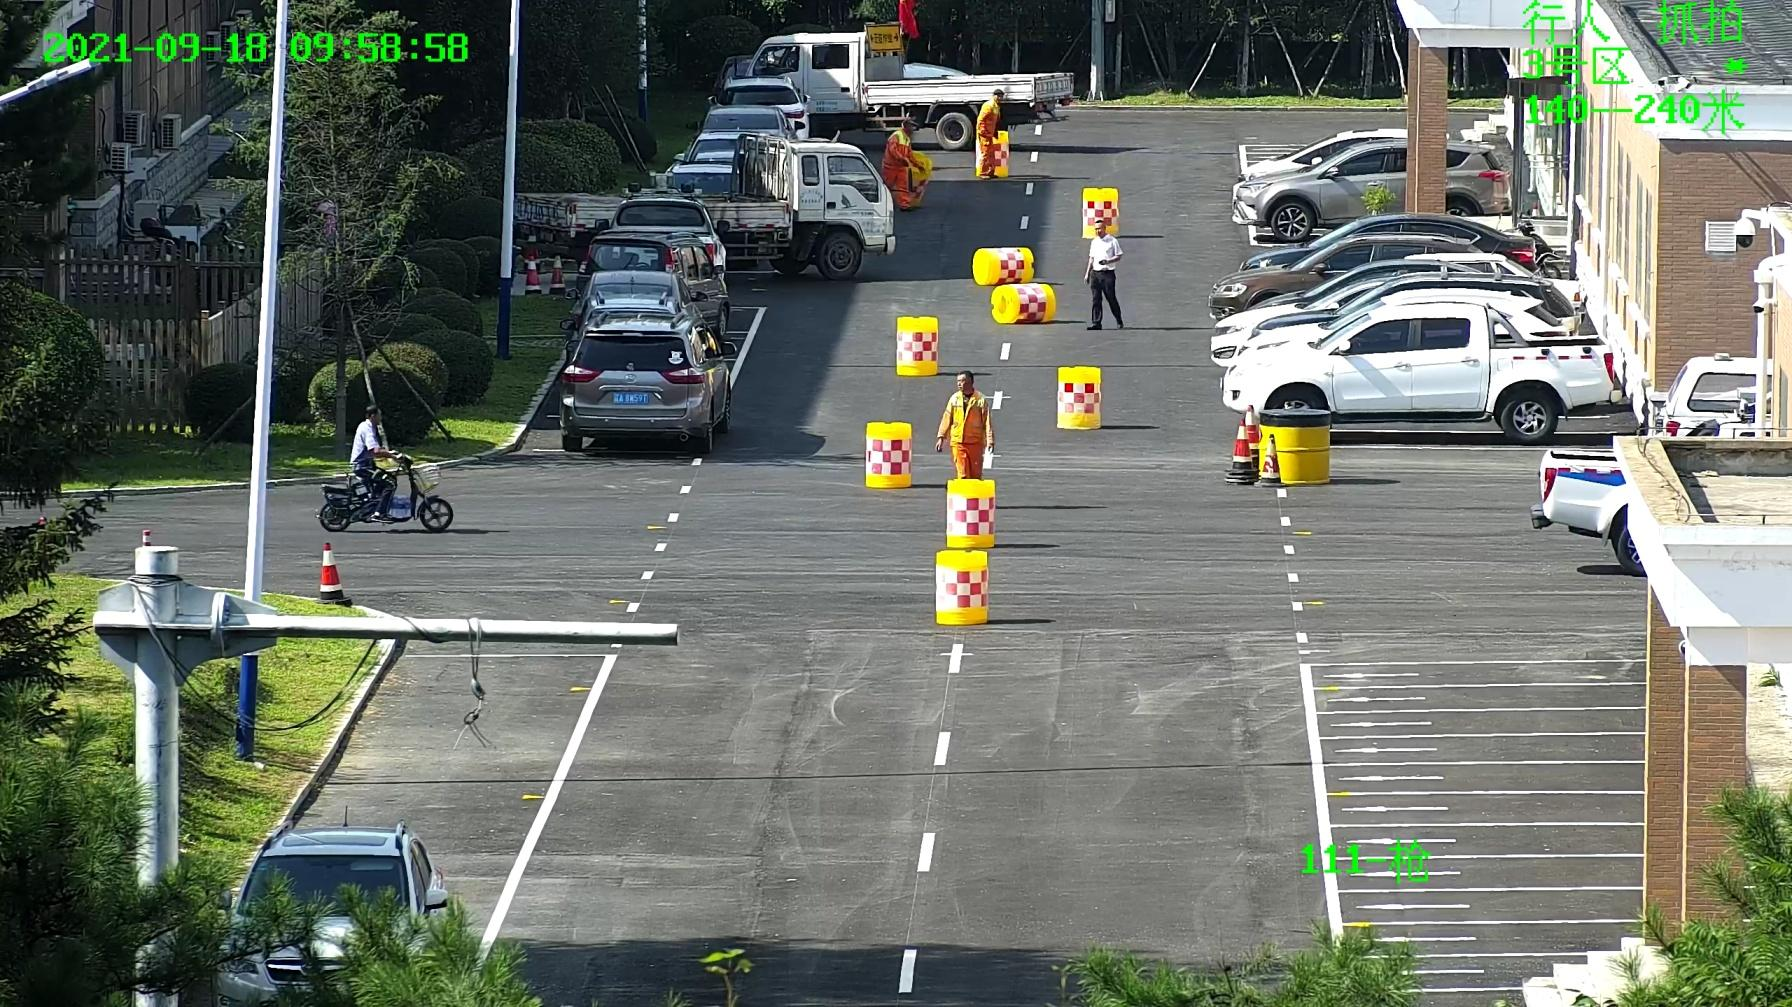cone_barrel: (933, 547, 988, 625), (945, 481, 993, 547), (863, 422, 910, 489), (1054, 368, 1100, 428), (988, 281, 1055, 323), (895, 315, 938, 374), (971, 247, 1031, 286), (898, 149, 933, 208), (972, 127, 1009, 177), (1081, 191, 1116, 231)
